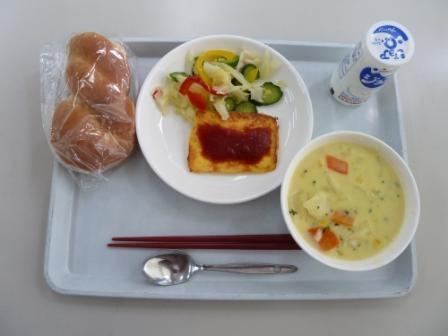Bread: (41, 25, 150, 179)
Drinkable yogurt: (318, 22, 436, 113)
Salad: (160, 41, 290, 115)
pastry: (178, 112, 285, 178)
vegetable soup: (281, 130, 421, 266)
